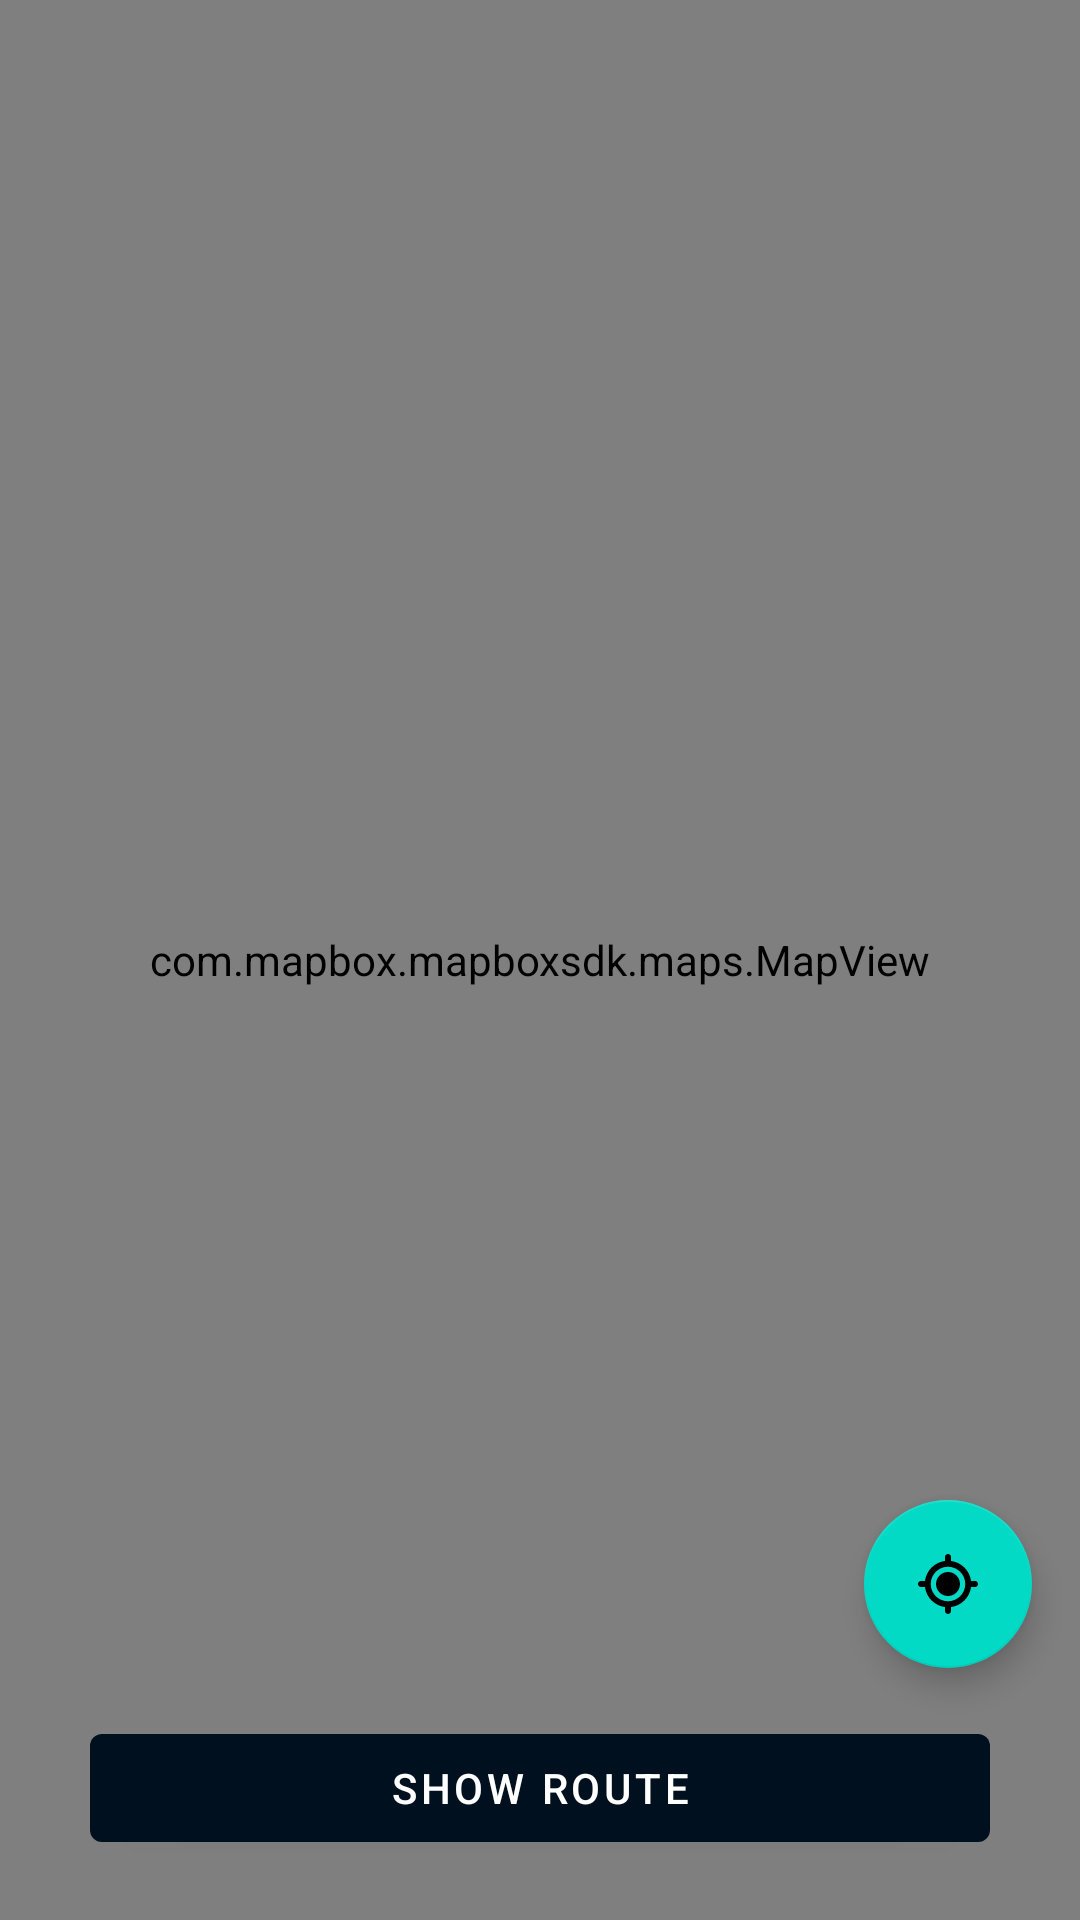

Point at icon controls on the screen. Image size 1080*1920, points as [x,y].
location: [948,1584]
